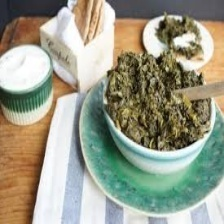sabzi: (104, 48, 214, 153)
